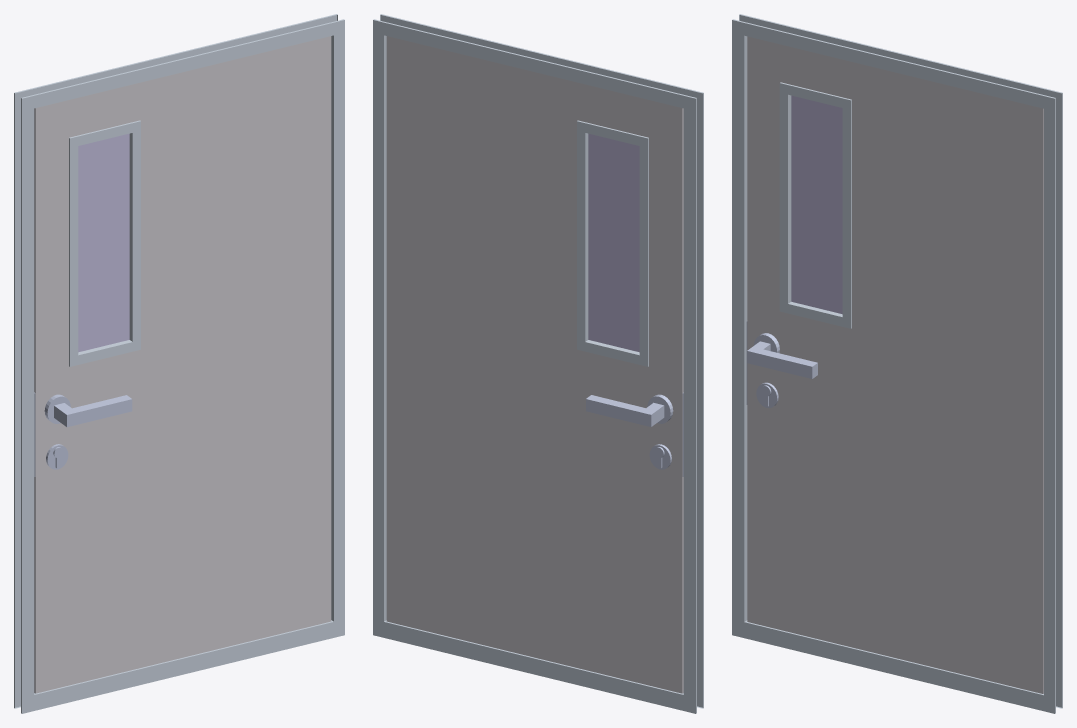
Rendered from Door.fbx.
3 renders of one model, left to right at view 1: azimuth 30°, elevation 25°; view 2: azimuth 150°, elevation 25°; view 3: azimuth 330°, elevation 25°, orthographic.
Parts seen in each view (by area): view 1: Door, pasted__Door1, pasted__Door; view 2: Door, pasted__Door1, pasted__Door; view 3: Door, pasted__Door1, pasted__Door.
Boxes of the visible parts, bbox=[...] form: Door: bbox=[34, 36, 331, 693]; pasted__Door1: bbox=[14, 14, 344, 713]; pasted__Door: bbox=[44, 394, 132, 427]; Door: bbox=[386, 36, 683, 693]; pasted__Door1: bbox=[373, 14, 703, 713]; pasted__Door: bbox=[586, 394, 673, 426]; Door: bbox=[746, 36, 1043, 693]; pasted__Door1: bbox=[732, 14, 1062, 713]; pasted__Door: bbox=[747, 333, 817, 378].
Size of the model in its own units: 35.02 by 63.78 by 7.09.
